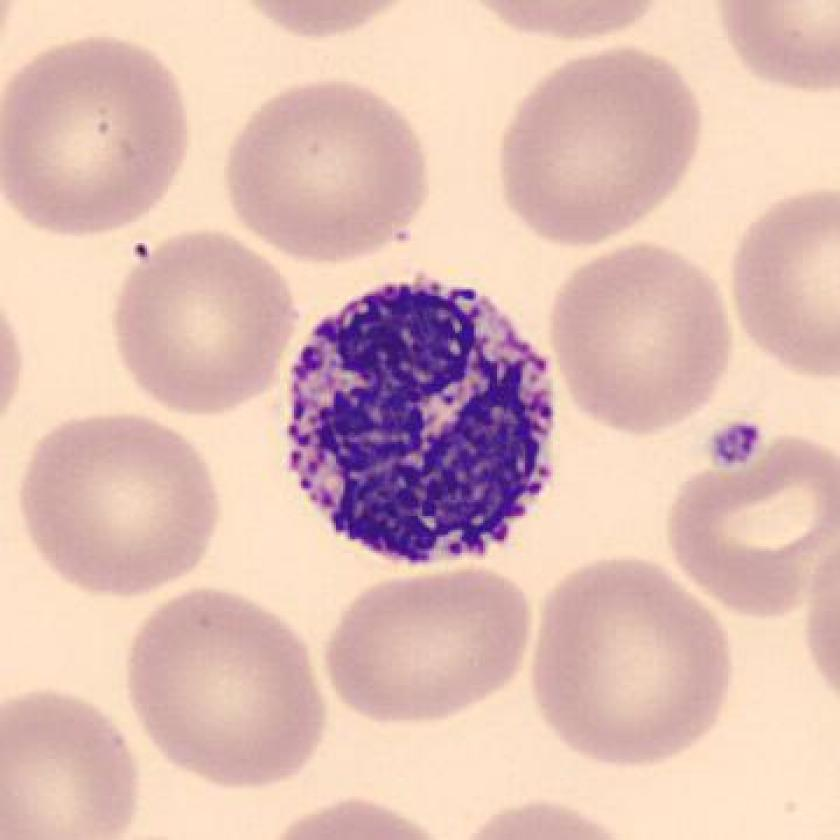basophil: (279, 270, 554, 564)
